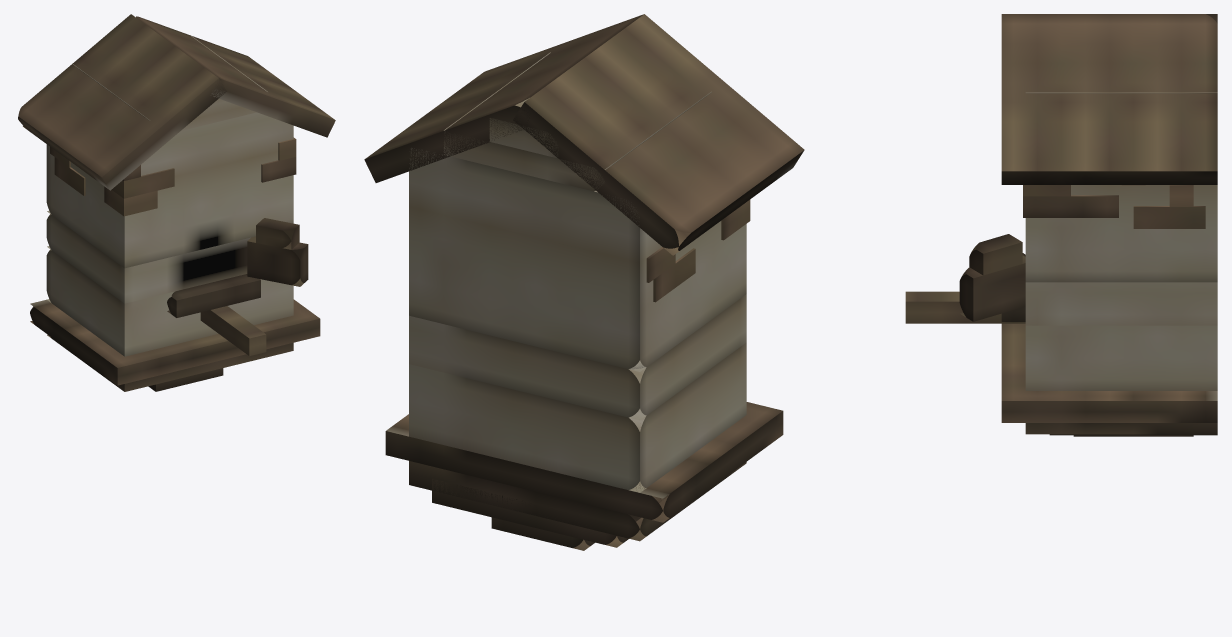
Rendered from birdhouse.obj.
3 views of the same model, side by side, from view 1: azimuth 30°, elevation 25°; view 2: azimuth 150°, elevation 25°; view 3: azimuth 270°, elevation 25° (orthographic). The views are drawn at different scales.
Visible parts, largest first — view 1: box1, roof1, box5, base1, box4, roof2, stick, door1, shelf, base2, door2, roof4 (+5 smaller); view 2: box1, roof1, box5, box4, base1, roof2, base2, roof4, base3, roof3, base4, cloud2 (+2 smaller); view 3: roof2, box1, box5, base1, box4, door1, base2, cloud7, shelf, cloud11, door2, cloud6 (+1 smaller).
Boxes of the visible parts, x1=… form: box1: x1=46, y1=112, x2=293, y2=268; roof1: x1=18, y1=14, x2=226, y2=190; box5: x1=46, y1=246, x2=293, y2=356; base1: x1=30, y1=299, x2=320, y2=385; box4: x1=46, y1=214, x2=250, y2=303; roof2: x1=136, y1=16, x2=335, y2=137; stick: x1=167, y1=274, x2=260, y2=317; door1: x1=247, y1=236, x2=308, y2=286; shelf: x1=200, y1=306, x2=266, y2=355; base2: x1=47, y1=334, x2=293, y2=391; door2: x1=256, y1=218, x2=299, y2=249; roof4: x1=72, y1=35, x2=267, y2=130; box1: x1=409, y1=148, x2=746, y2=371; roof1: x1=513, y1=14, x2=804, y2=255; box5: x1=409, y1=342, x2=746, y2=492; box4: x1=409, y1=294, x2=746, y2=420; base1: x1=385, y1=402, x2=783, y2=522; roof2: x1=364, y1=14, x2=643, y2=182; base2: x1=409, y1=461, x2=746, y2=541; roof4: x1=443, y1=52, x2=711, y2=192; base3: x1=432, y1=478, x2=641, y2=547; roof3: x1=489, y1=98, x2=558, y2=158; base4: x1=491, y1=517, x2=594, y2=550; cloud2: x1=653, y1=248, x2=695, y2=302; roof2: x1=1001, y1=14, x2=1217, y2=184; box1: x1=1025, y1=185, x2=1217, y2=282; box5: x1=1025, y1=325, x2=1217, y2=390; base1: x1=1001, y1=323, x2=1217, y2=422; box4: x1=1025, y1=282, x2=1217, y2=325; door1: x1=959, y1=255, x2=1025, y2=321; base2: x1=1025, y1=423, x2=1217, y2=434; cloud7: x1=1023, y1=195, x2=1118, y2=217; shelf: x1=905, y1=291, x2=1025, y2=323; cloud11: x1=1133, y1=206, x2=1205, y2=228; door2: x1=969, y1=234, x2=1022, y2=275; cloud6: x1=1023, y1=185, x2=1070, y2=196.
Bounding box in the file's own units: 0.433 × 0.875 × 0.5001.
